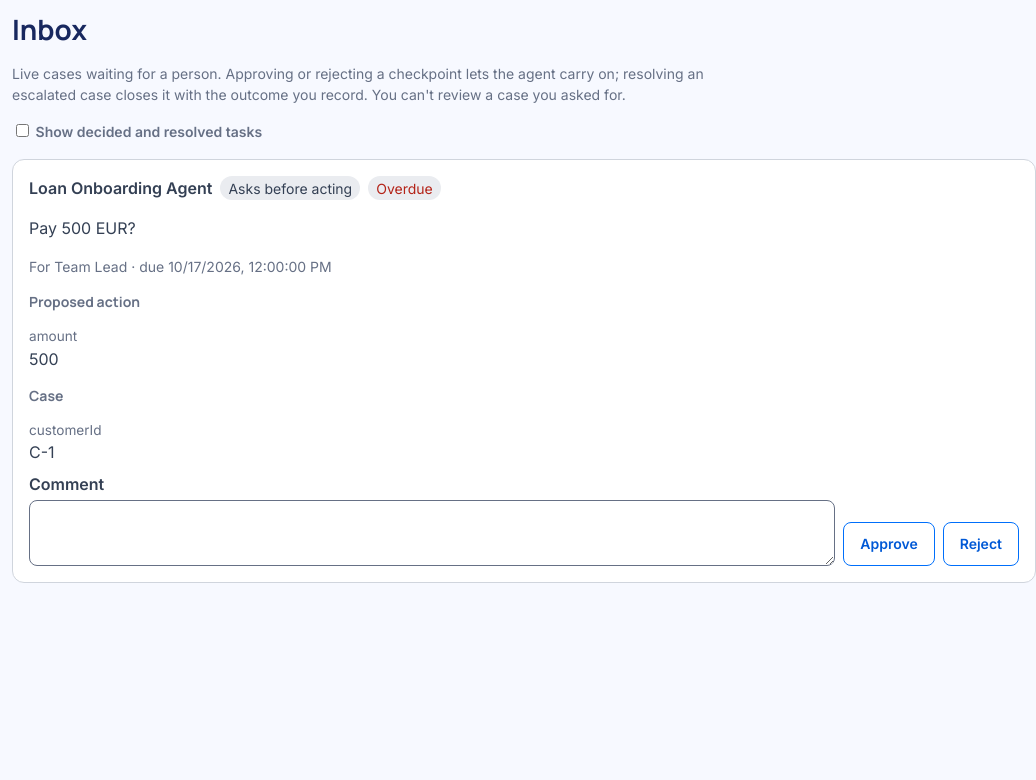
Inbox page (Epic 39, US39.10) › asks for a reason before rejecting, then approves
Click the button "Reject": (981, 544) [943,522,1019,566]
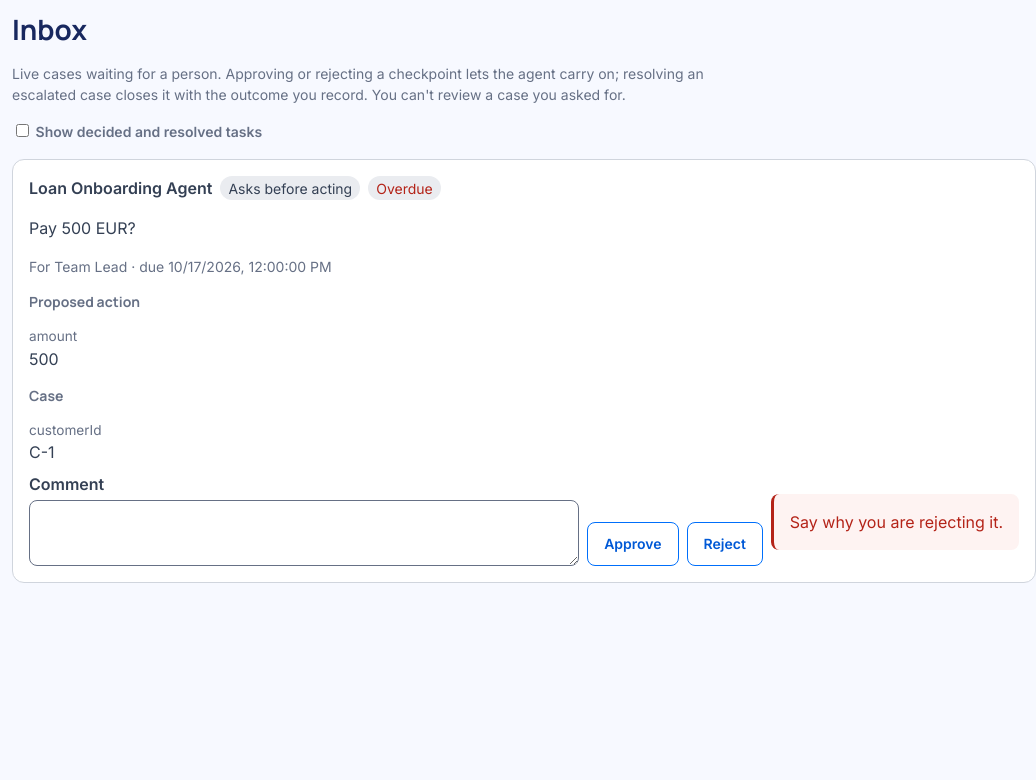
Result: the message shows "Say why" at [790,512,1003,532]
In the text box labelled "Comment": (304, 533) [29,500,579,566], type "Within budget"
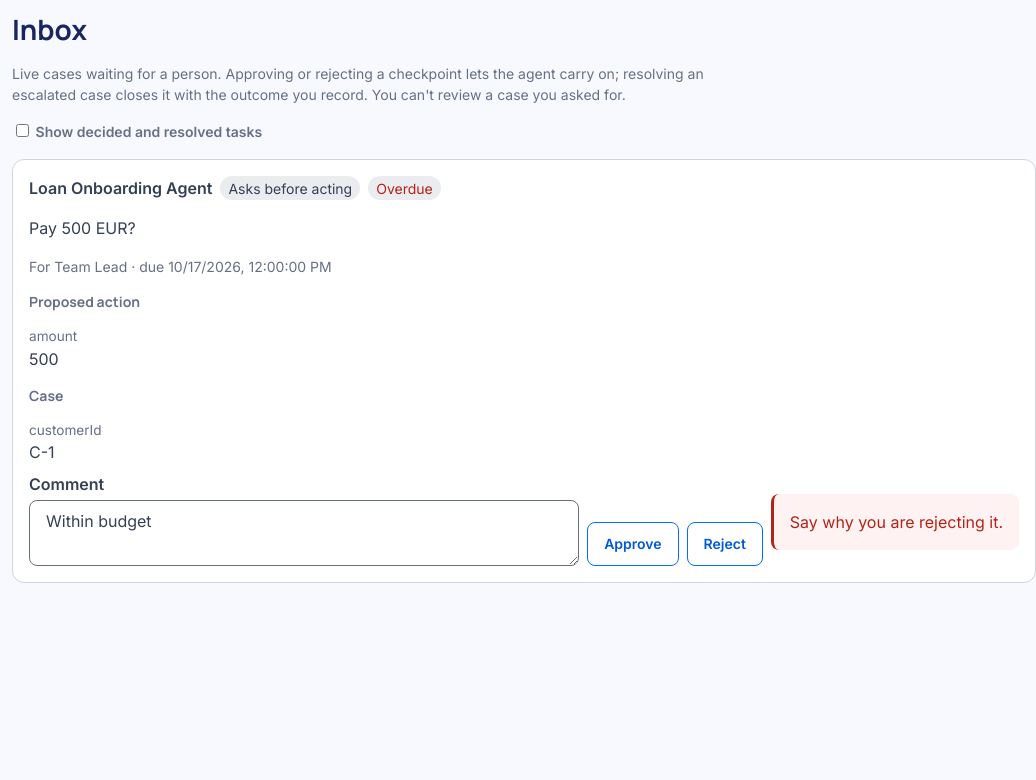
Click the button "Approve": (633, 544) [587,522,678,566]
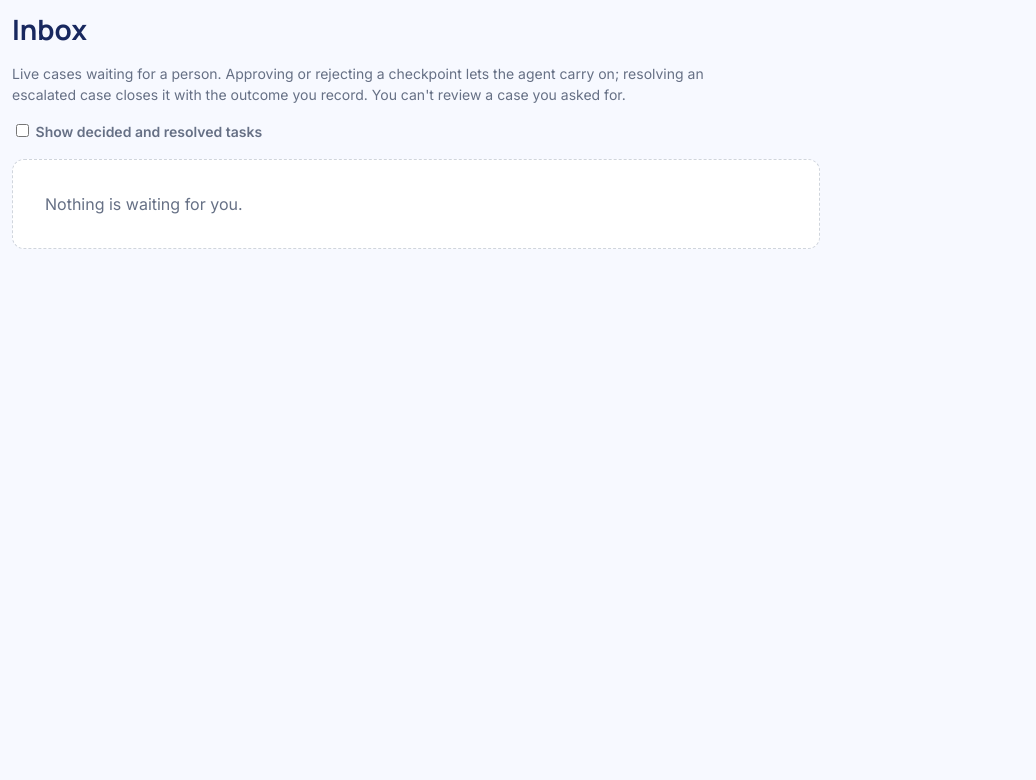
Result: the text "Nothing is waiting for you." is shown at [12,159,820,249]
